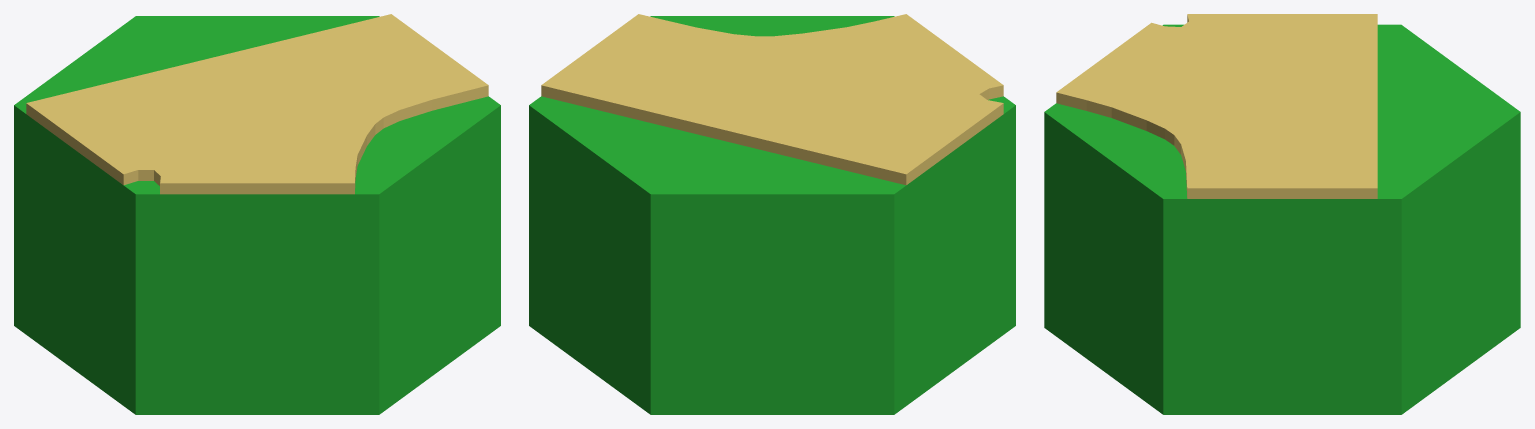
The model's file is module-corner_land_path_left.glb.
The picture shows the model from 3 angles, left to right: view 1: azimuth 30°, elevation 25°; view 2: azimuth 150°, elevation 25°; view 3: azimuth 270°, elevation 25°; orthographic projection. The views are drawn at different scales.
Parts seen in each view (by area): view 1: module-corner_land_path_left; view 2: module-corner_land_path_left; view 3: module-corner_land_path_left.
Boxes of the visible parts, left/top/right/bottom form: module-corner_land_path_left: left=14, top=14, right=500, bottom=414; module-corner_land_path_left: left=529, top=14, right=1015, bottom=414; module-corner_land_path_left: left=1044, top=14, right=1520, bottom=414.
Bounding box in the file's own units: 0.866 × 0.525 × 1.
